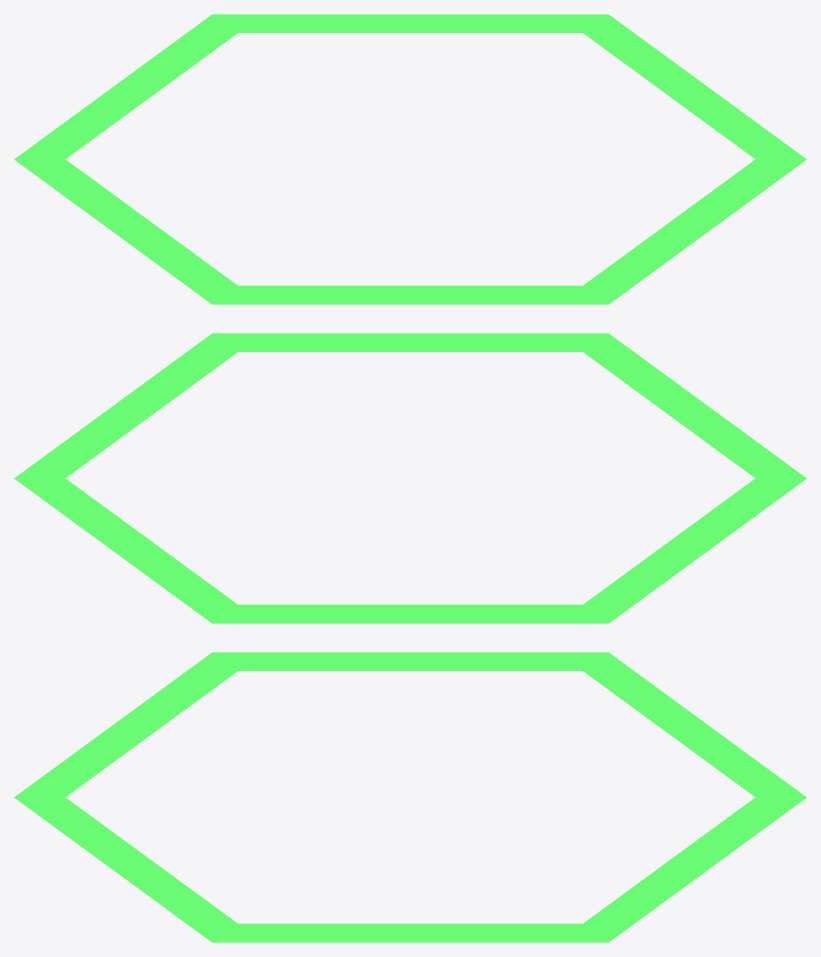
The model's file is HexAvailable.glb.
The picture shows the model from 3 angles, top to bottom: view 1: azimuth 30°, elevation 25°; view 2: azimuth 150°, elevation 25°; view 3: azimuth 270°, elevation 25°; orthographic projection.
Visible parts, largest first — view 1: Circle; view 2: Circle; view 3: Circle.
Part boxes in pixels (x1=…): Circle: x1=14, y1=14, x2=806, y2=304; Circle: x1=14, y1=333, x2=806, y2=623; Circle: x1=14, y1=652, x2=806, y2=942.
Size of the model in its own units: 1.73 by 0.000296 by 2.
